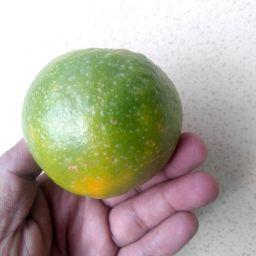Unripe: (22, 47, 183, 198)
